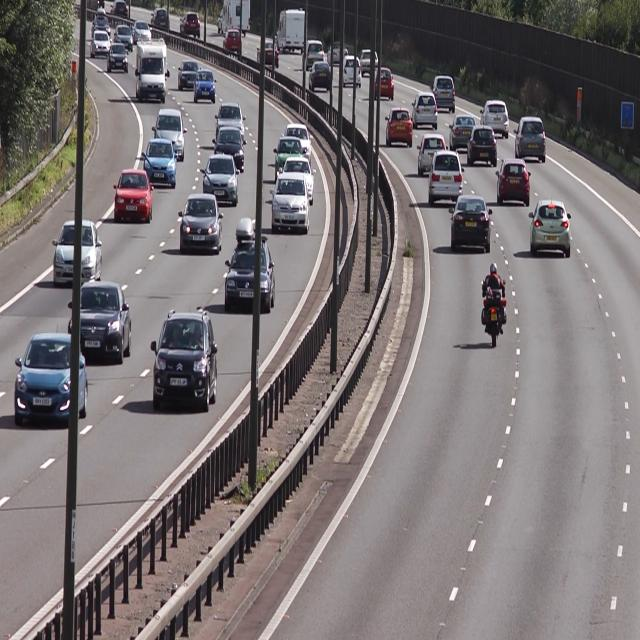Car: (10, 334, 86, 428), (152, 308, 216, 410), (66, 280, 130, 366), (225, 214, 278, 312), (49, 218, 102, 288), (526, 196, 577, 258), (446, 193, 493, 253), (179, 192, 223, 255), (112, 167, 154, 226), (269, 173, 310, 233), (133, 37, 167, 104), (202, 152, 238, 209), (140, 137, 178, 191), (428, 151, 463, 209), (493, 157, 532, 209), (151, 108, 186, 164), (212, 124, 246, 173), (512, 115, 545, 164), (414, 127, 445, 178), (384, 103, 414, 153), (465, 123, 498, 167), (479, 96, 510, 141), (429, 75, 458, 114), (446, 116, 476, 151), (412, 94, 439, 132), (190, 68, 216, 106), (371, 66, 394, 101), (308, 61, 332, 90), (106, 43, 127, 73)
